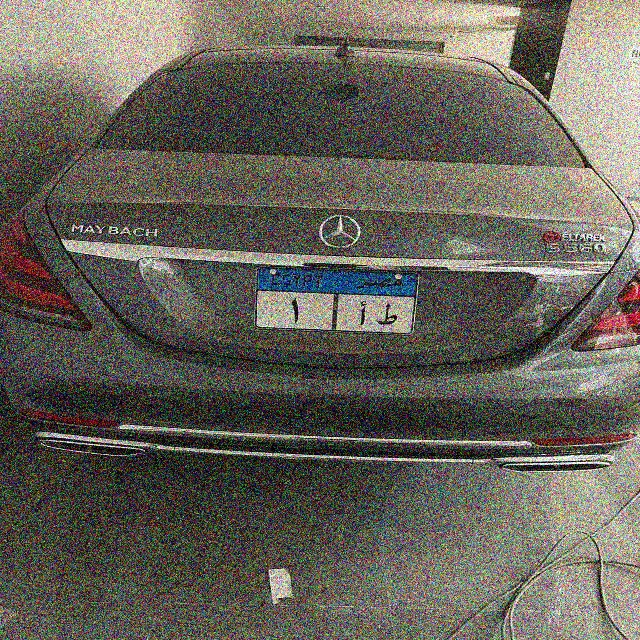License Plate: (251, 264, 424, 337)
